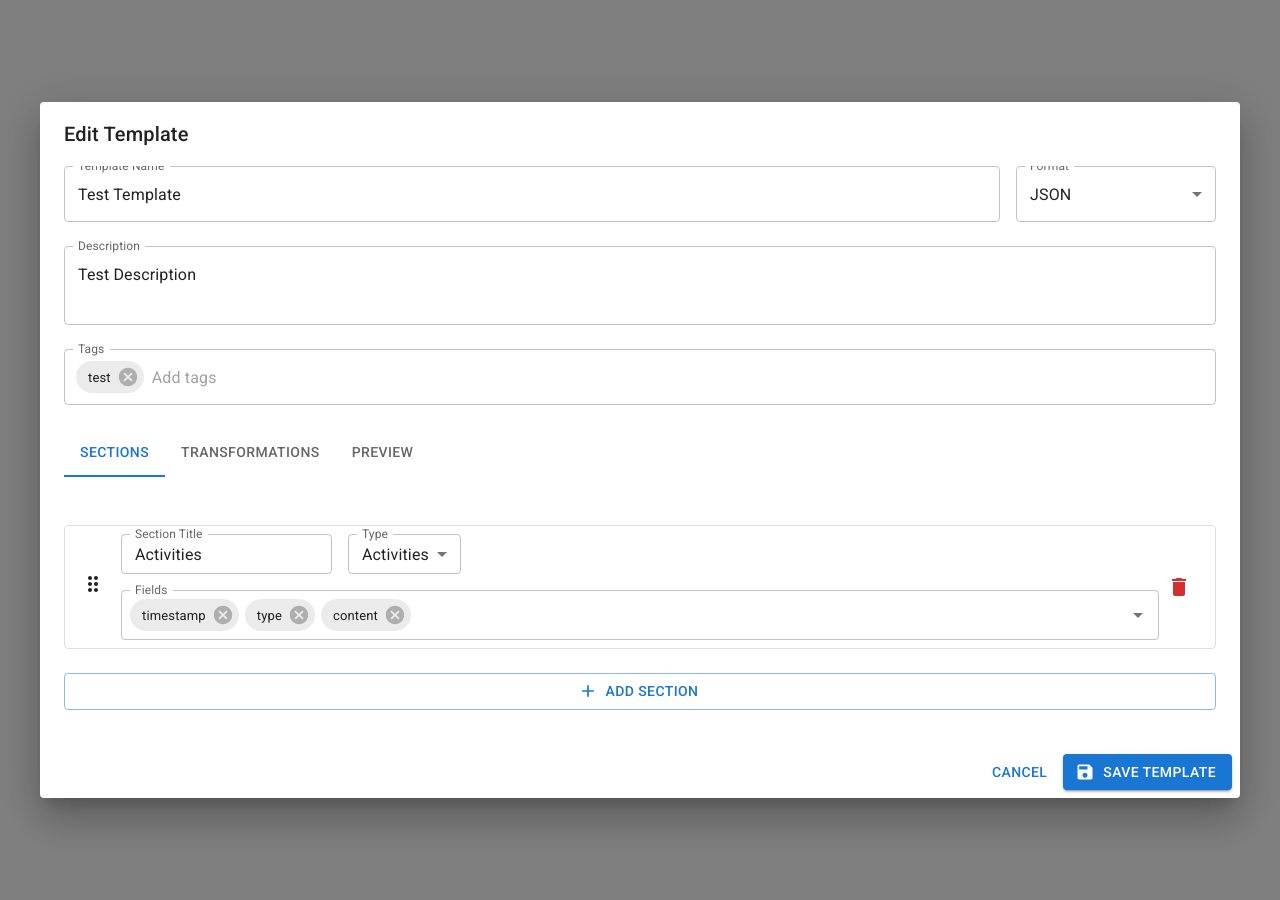
Test: TemplateEditor › handles preview tab correctly
Click the tab "Preview" at (382, 453), box [336,429,429,477]
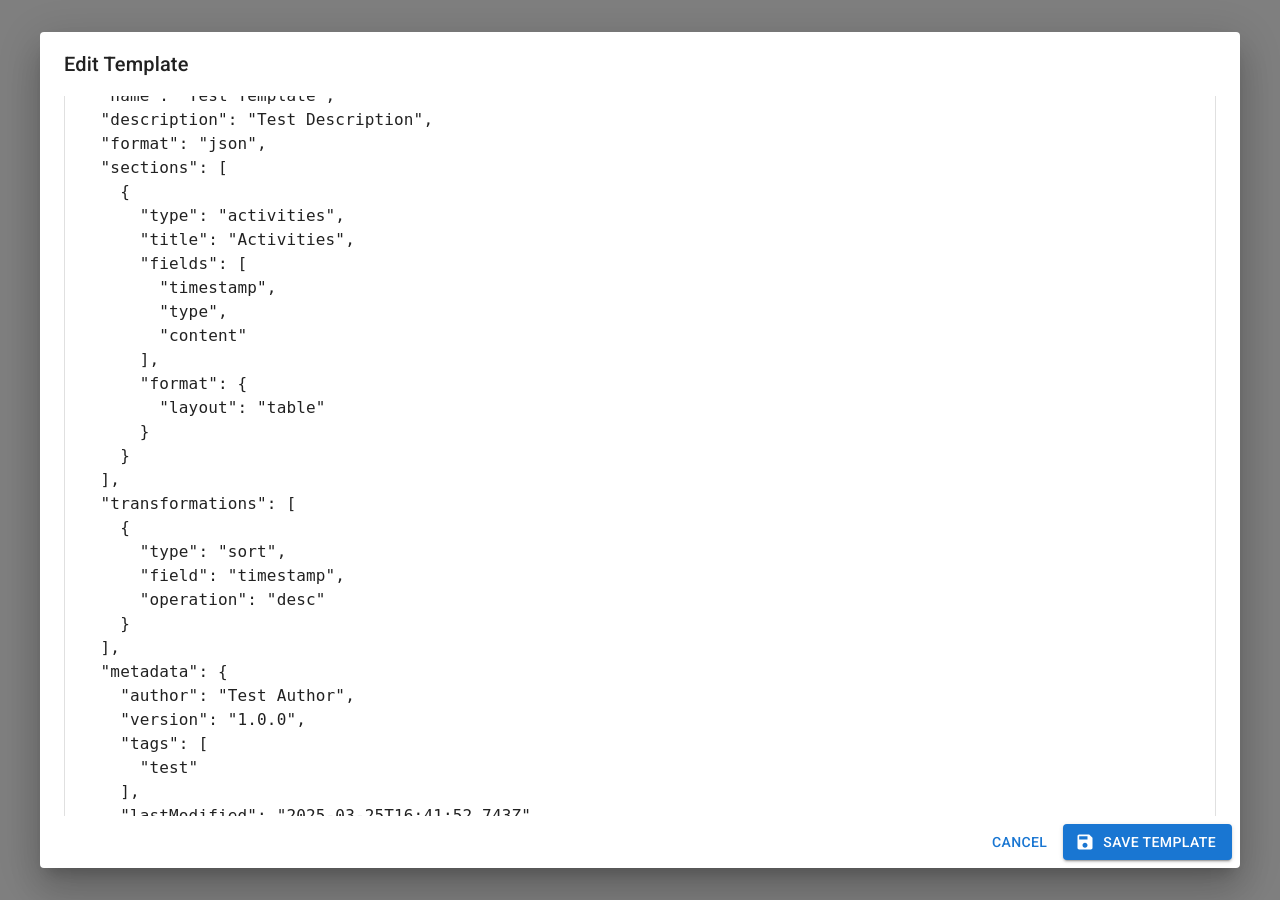
Expected: the text "\"name\": \"Test Template\"" is shown, [81,96,531,816]
